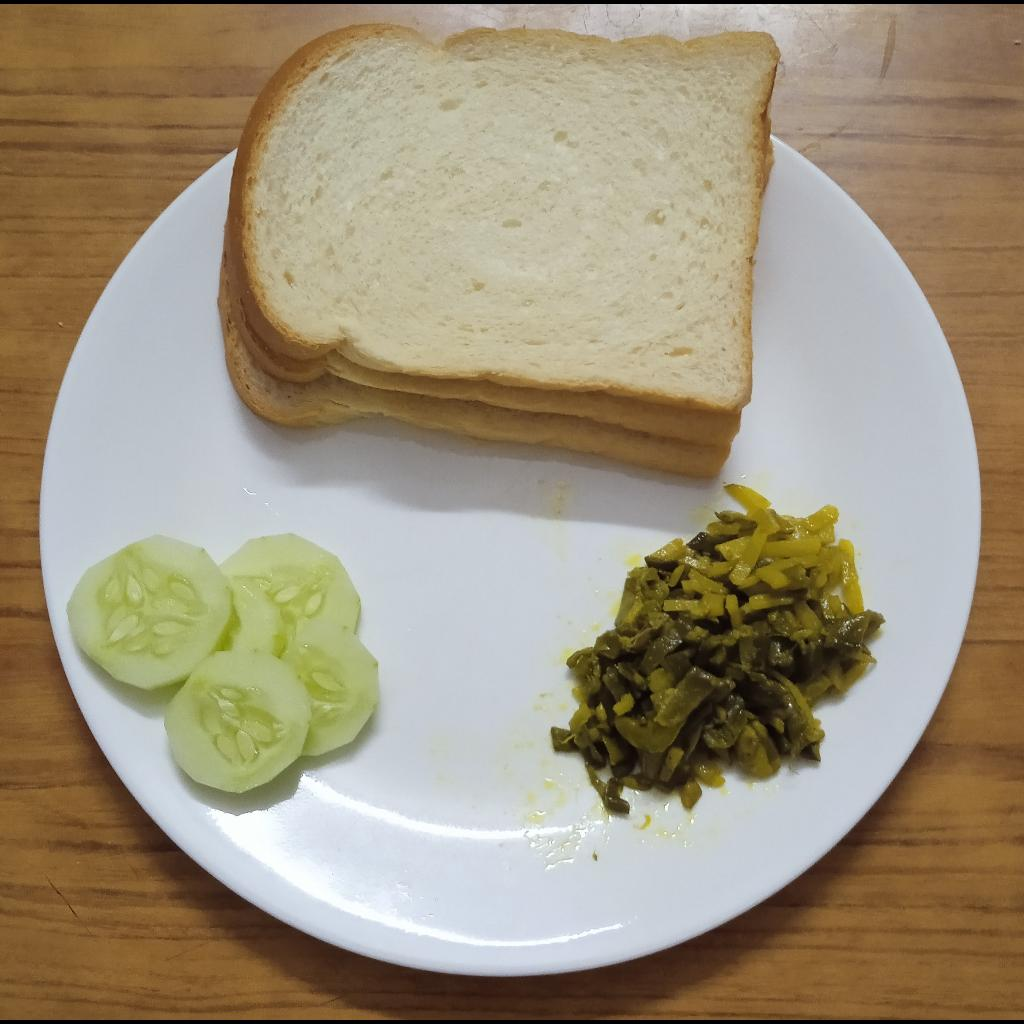bread: (217, 21, 780, 479)
cucumber: (65, 533, 379, 795)
vegetable: (552, 485, 885, 812)
